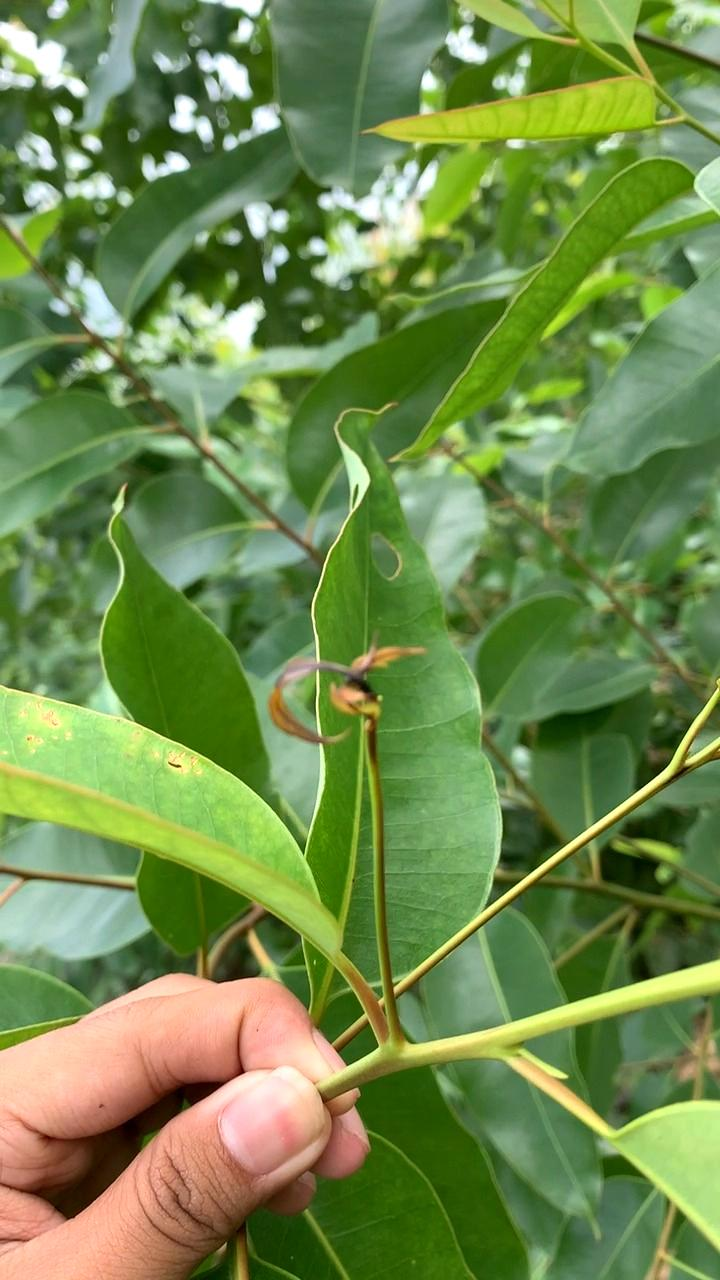Helopeltis-Withered Sprout: (273, 640, 429, 757)
